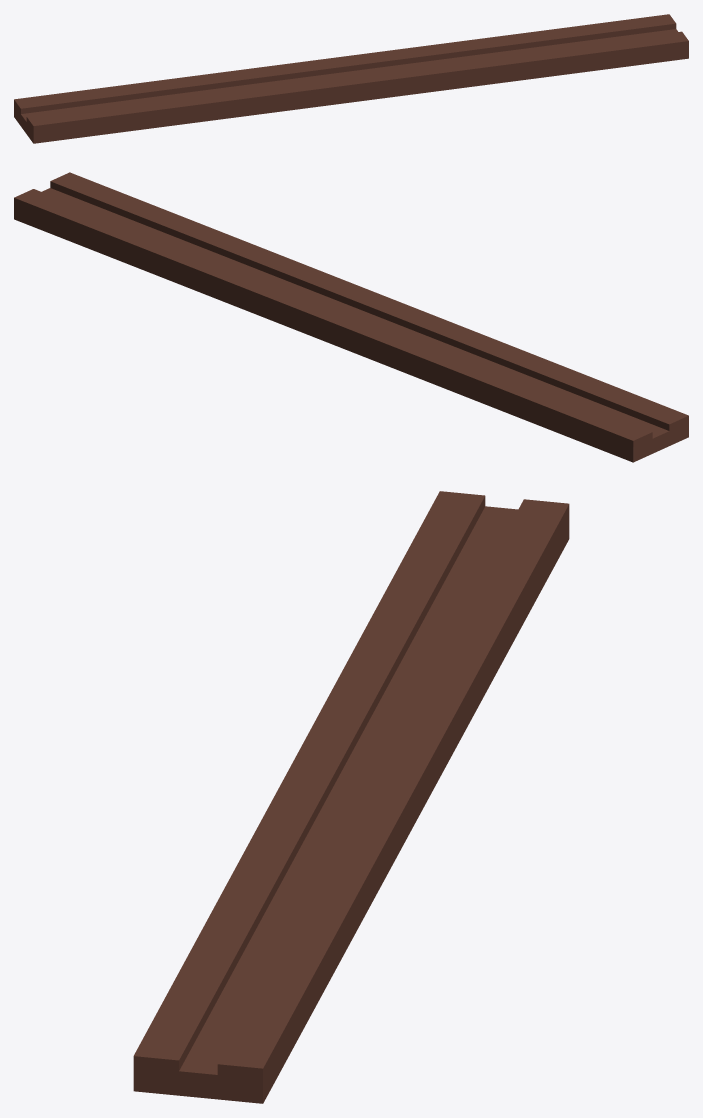
The model's file is obj_constructionmaterial.fbx.
3 views of the same model, one above another, from view 1: azimuth 30°, elevation 25°; view 2: azimuth 150°, elevation 25°; view 3: azimuth 270°, elevation 25° (orthographic). The views are drawn at different scales.
Parts seen in each view (by area): view 1: obj_constructionmaterial; view 2: obj_constructionmaterial; view 3: obj_constructionmaterial.
Part boxes in pixels (x1,y1,x2,y2): obj_constructionmaterial: (14, 14, 688, 143); obj_constructionmaterial: (14, 172, 688, 462); obj_constructionmaterial: (133, 491, 569, 1103).
Bounding box in the file's own units: 3.37 × 0.0959 × 1.08.
1 material, 1 textured.
